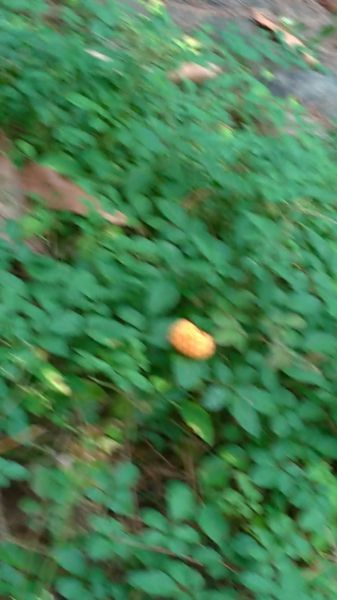eggs: (169, 312, 219, 364)
